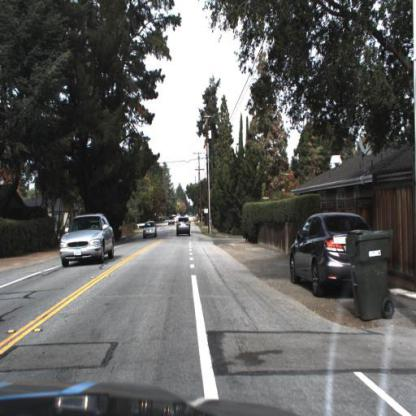car: (290, 212, 377, 301), (60, 214, 116, 268), (176, 216, 193, 239), (143, 222, 159, 238)
